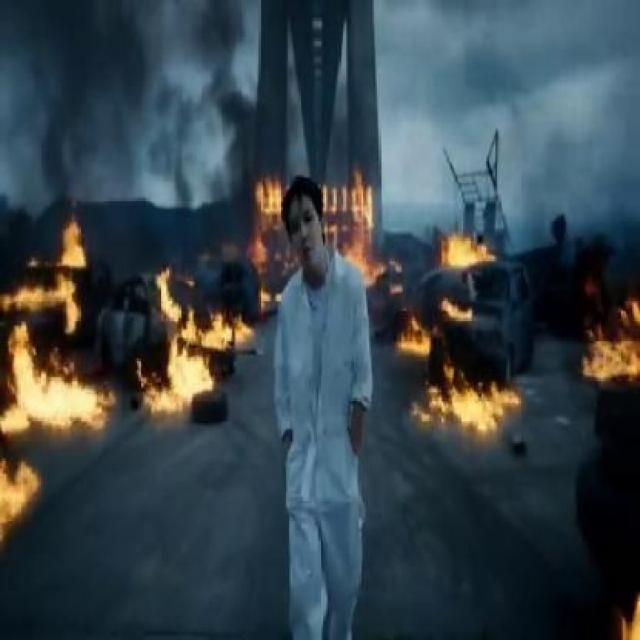fire: (156, 276, 227, 430), (10, 324, 104, 440), (581, 292, 640, 383), (421, 370, 508, 426), (335, 178, 377, 270), (248, 164, 280, 284), (434, 222, 484, 262)
smoke: (1, 1, 158, 234), (462, 22, 633, 216), (162, 7, 287, 161), (263, 34, 386, 168), (155, 152, 243, 252)
